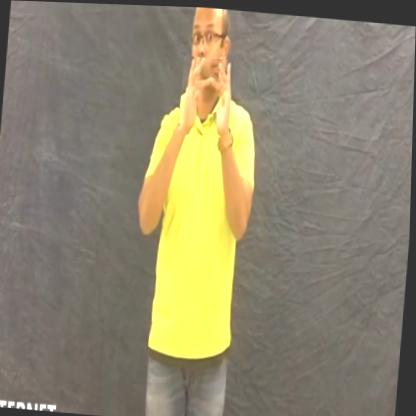Internet: (178, 54, 234, 136)
